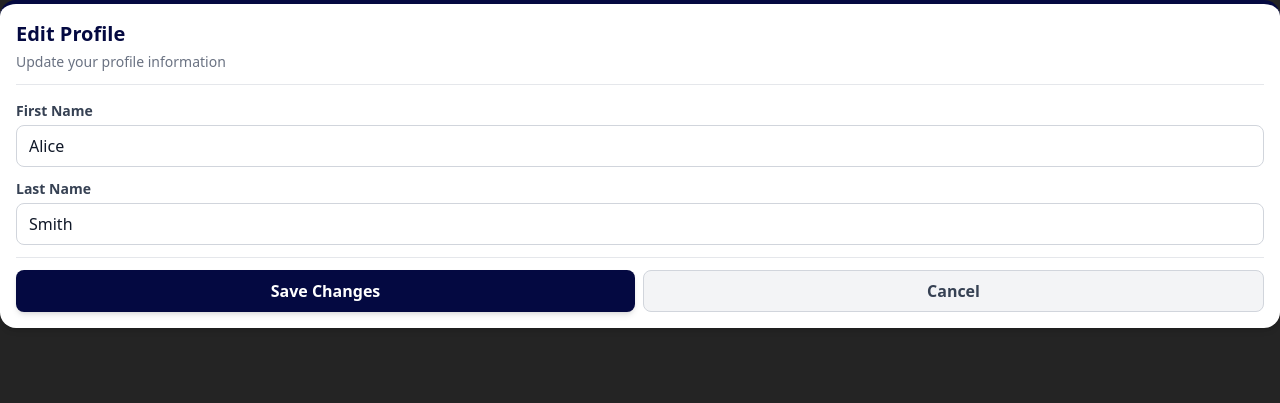
EditProfileSection › shows error message when save fails
What coordinates should you click on to do the following:
click the button "Save Changes"
I would click on:
 (326, 291)
Its box is [16,270,635,312].
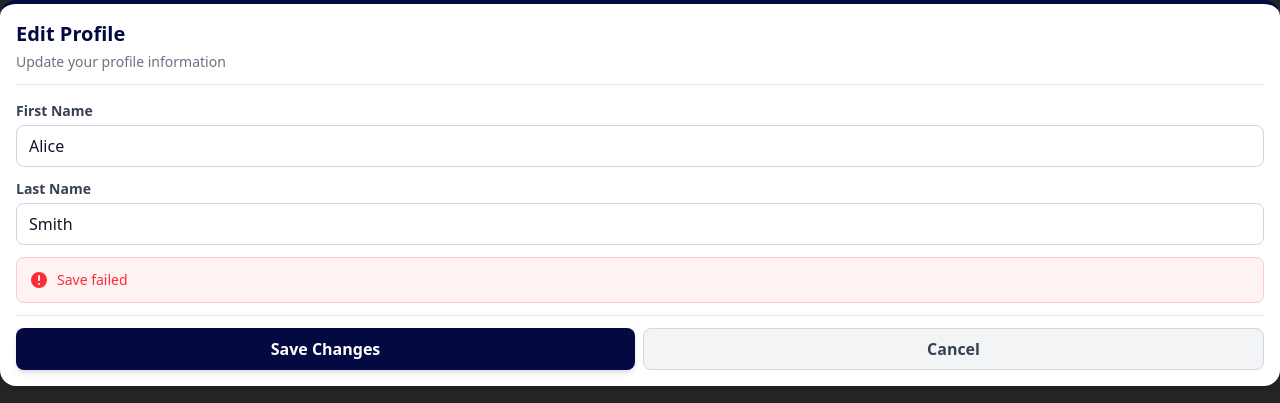
Check: the text "Save failed" is shown, box [16,257,1264,303]
